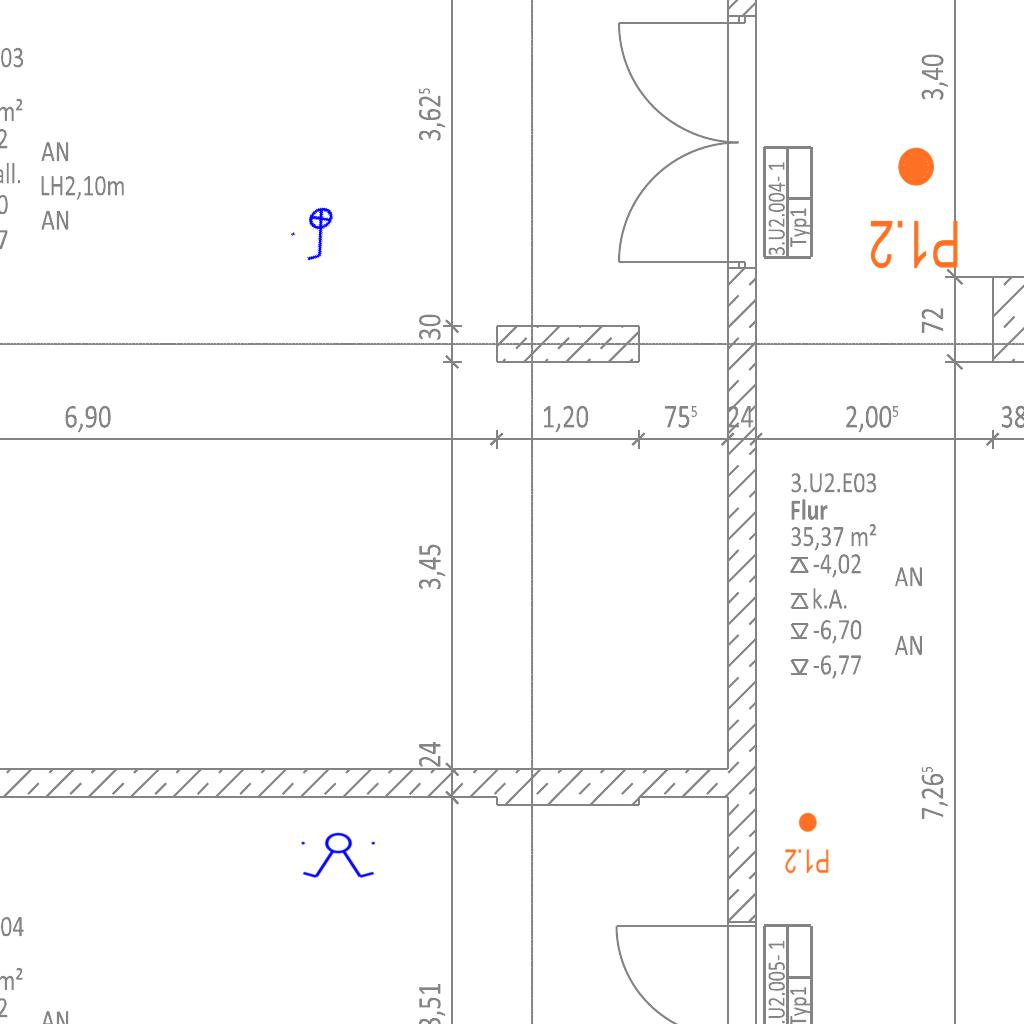Ausschalter_beleuchtet: (283, 199, 357, 269)
Downlight_LED_Einbauleuchten_Flur: (868, 144, 961, 272), (784, 811, 830, 875)
Serienschalter: (297, 832, 381, 880)
